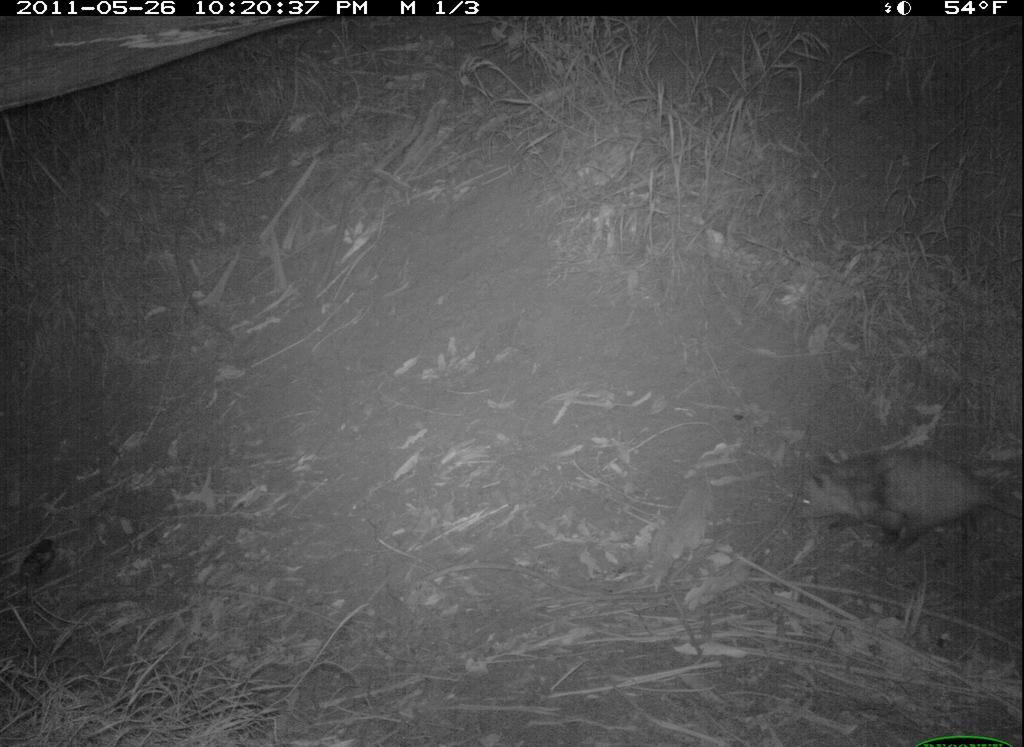opossum: (793, 440, 1024, 552)
